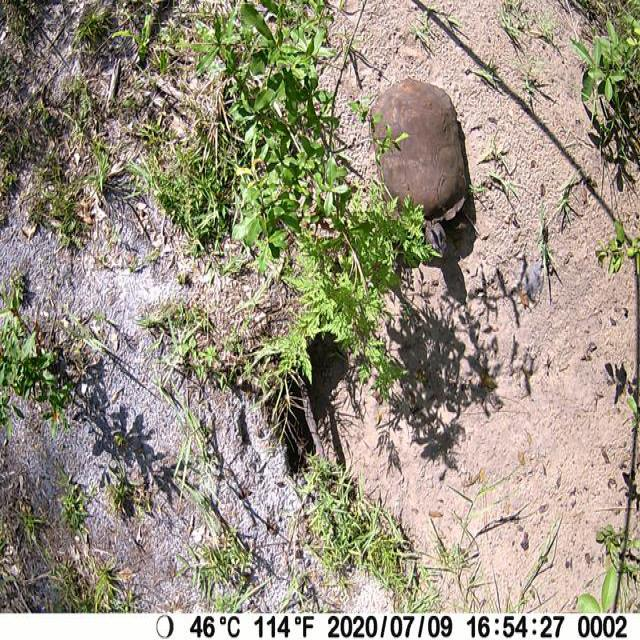tortoise: (364, 75, 472, 256)
